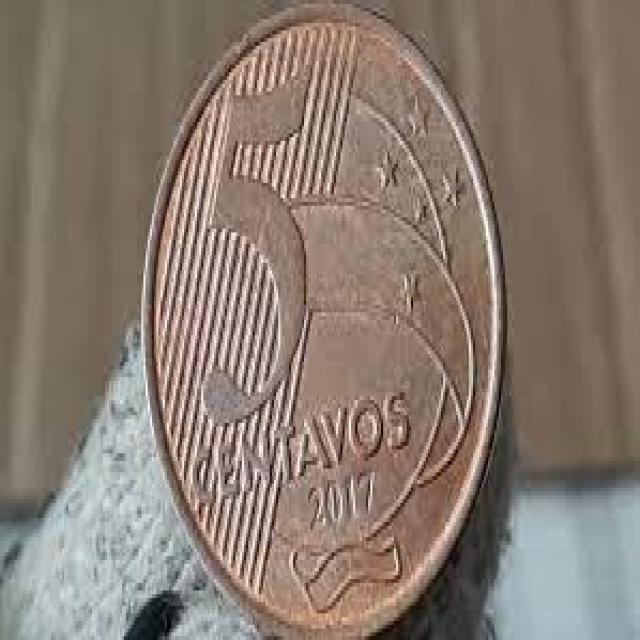5 cent: (150, 7, 502, 634)
